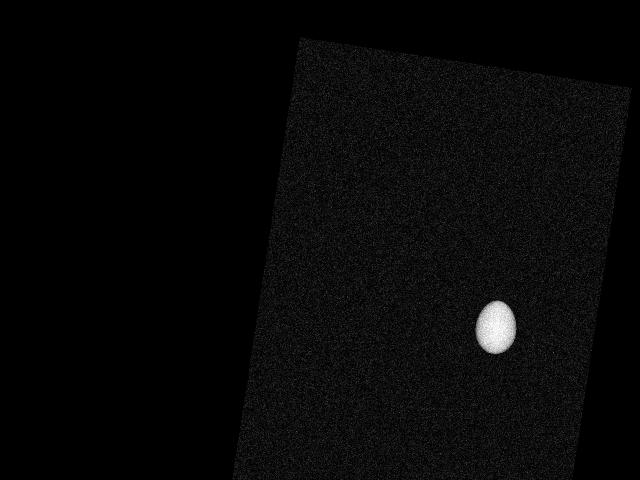egg: (471, 298, 520, 356)
